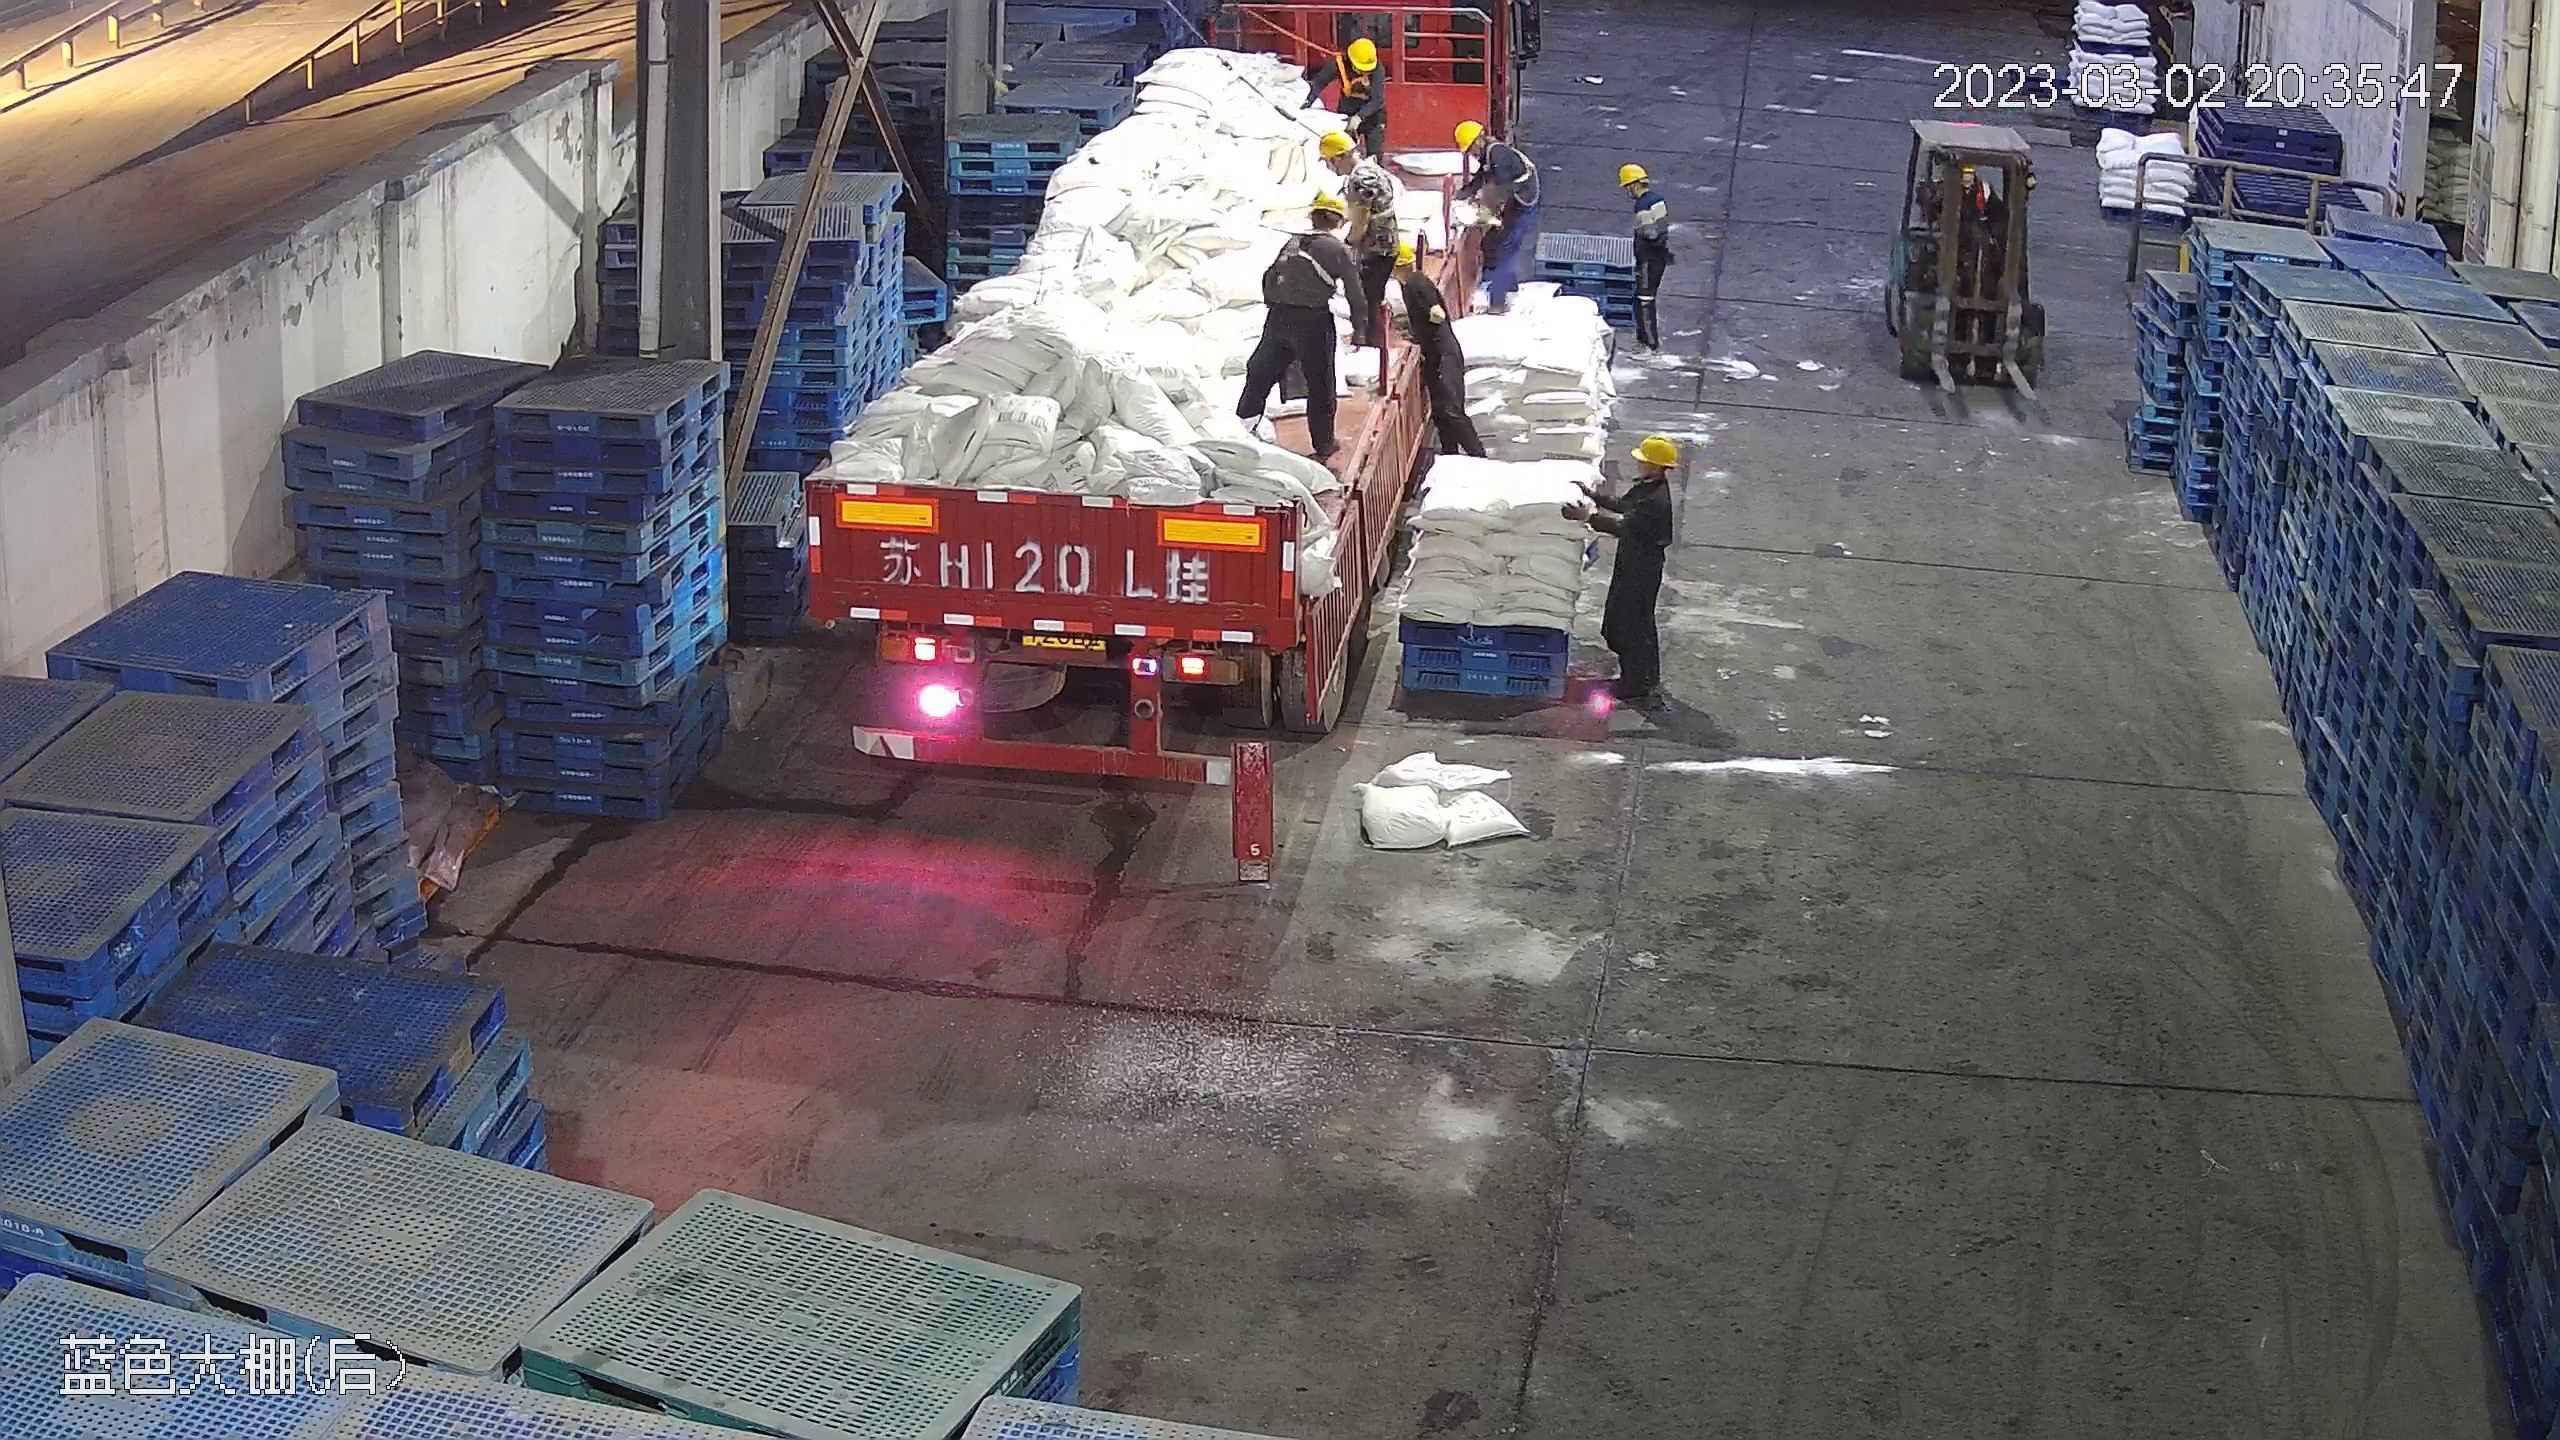belt: (1271, 222, 1345, 295), (1344, 159, 1400, 220), (1472, 138, 1530, 189), (1331, 62, 1373, 105)
head: (1271, 189, 1361, 273), (1605, 433, 1678, 522), (1451, 119, 1527, 184), (1315, 131, 1390, 196), (1318, 36, 1387, 100), (1384, 238, 1440, 299), (1616, 163, 1666, 224)
helmet: (1630, 433, 1676, 464), (1311, 186, 1356, 218), (1344, 35, 1380, 71), (1319, 128, 1355, 160), (1453, 119, 1485, 149), (1392, 233, 1423, 260), (1617, 161, 1648, 185)
people: (1231, 187, 1368, 458), (1579, 425, 1682, 724), (1380, 227, 1469, 444), (1444, 117, 1539, 318), (1613, 162, 1673, 362), (1307, 39, 1391, 167)
truck: (792, 9, 1476, 780)
